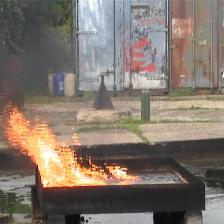fire: (4, 101, 135, 196)
